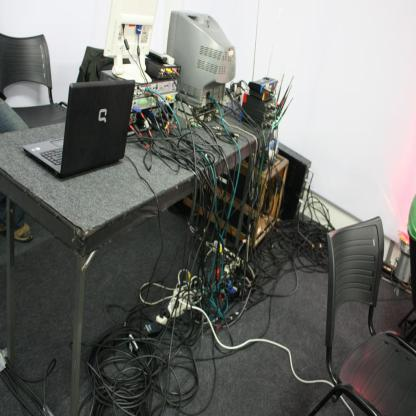board: (25, 77, 135, 176)
